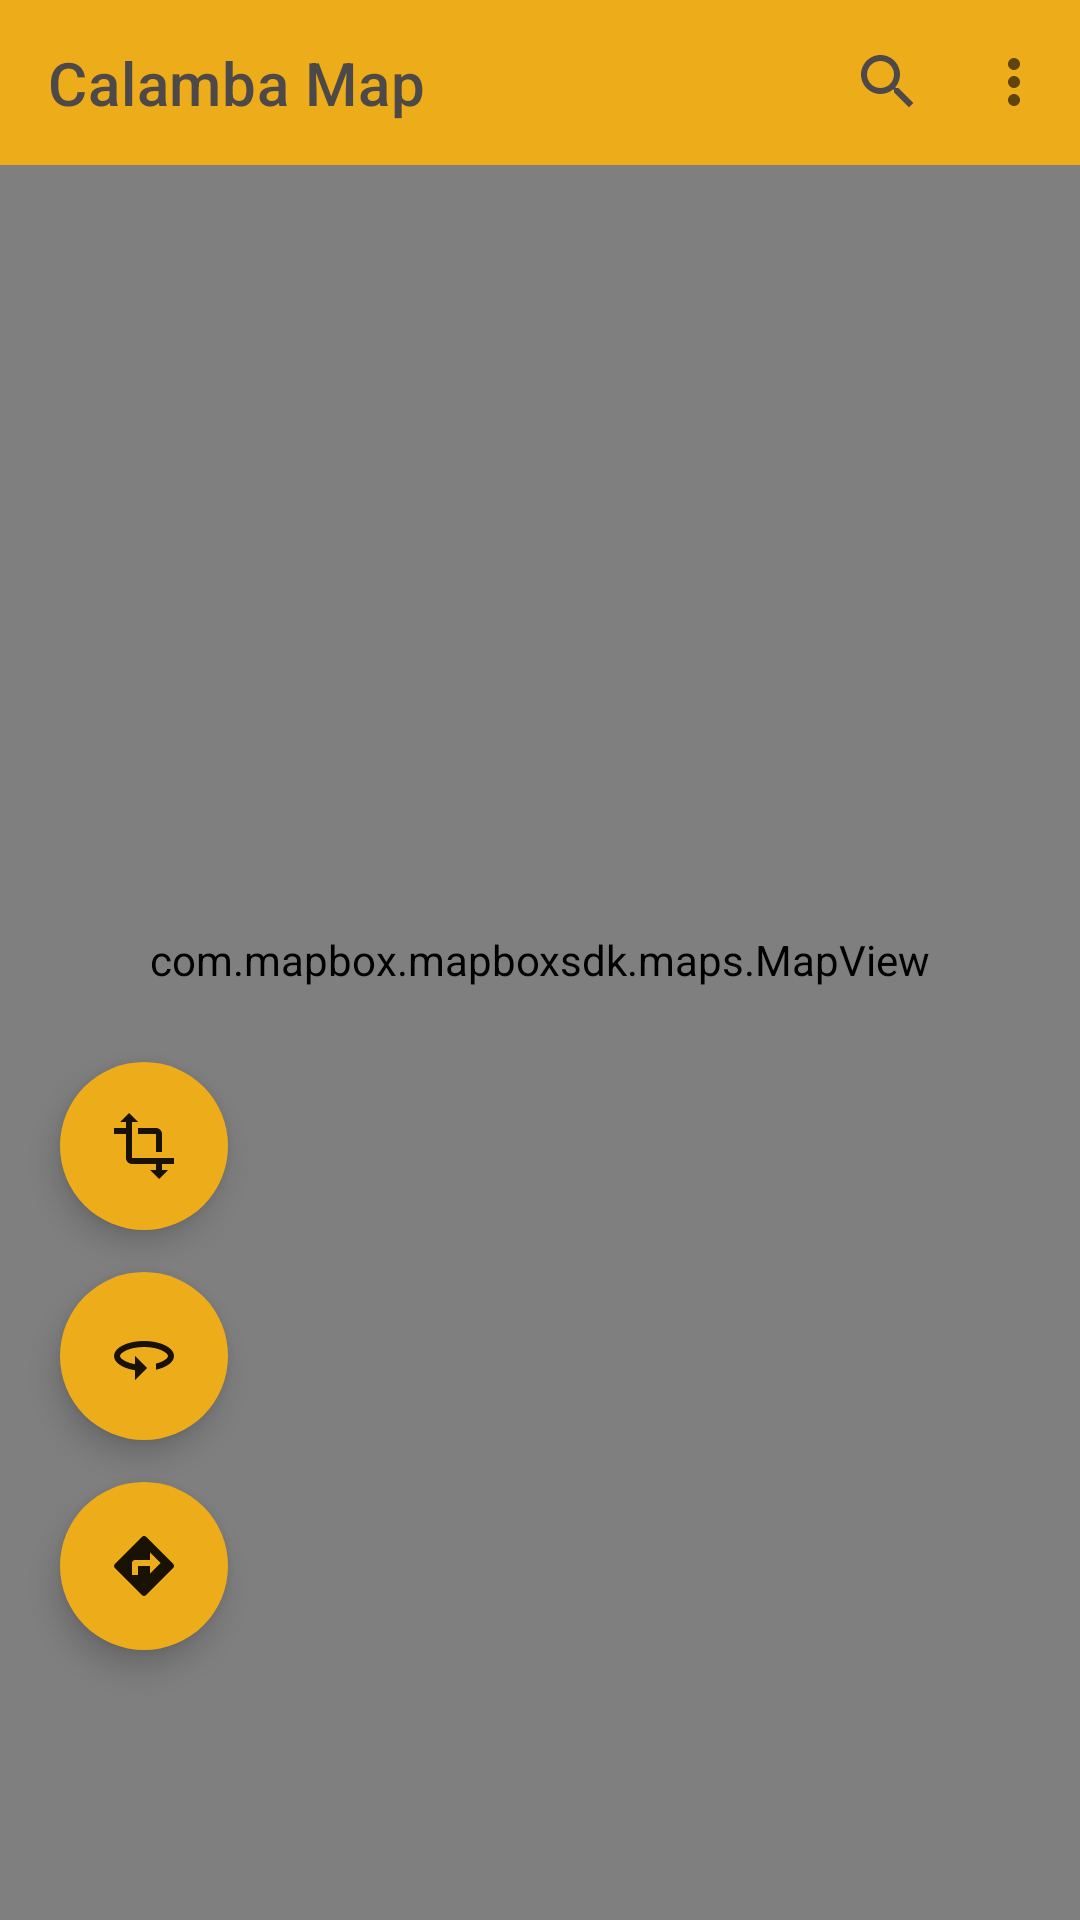

Named icons in this screenshot (1080*1920) and their centers, (x=x, y=y):
directions: (x=144, y=1566)
